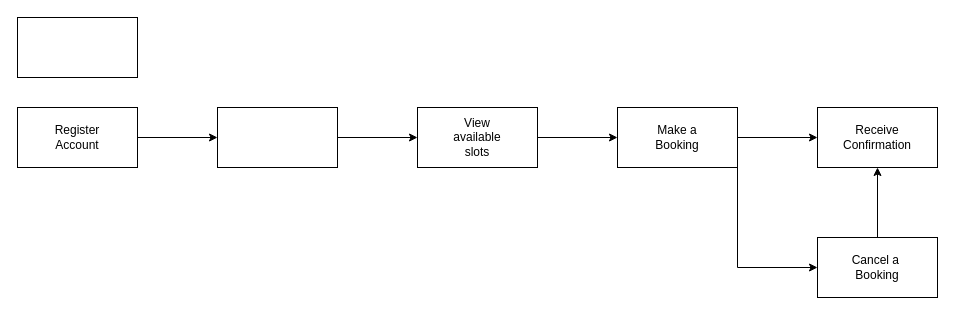
Some shapes in this 955 by 315 pixel diagram are drawn without their labels. The shapes that lost their labels are listed below. From the top down, each one's box as (x1, y1, x2, y2) in pixels, then its label:
(16, 16, 138, 78): Customer
(216, 106, 338, 168): Login
